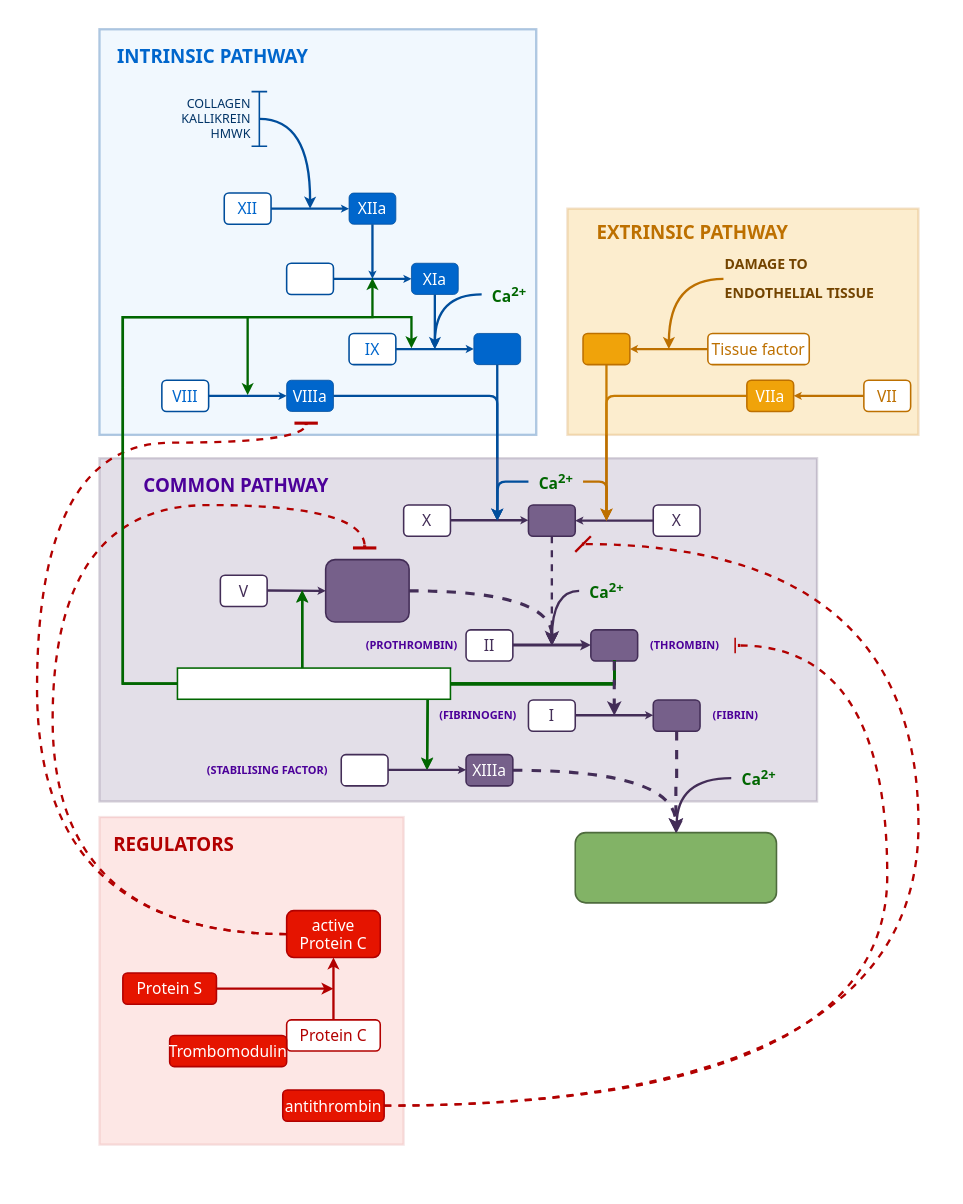
Image size: 963x1204. Some labels were removed from this diagram. The box of each missing label's shape, as (x1, y1, x2, y2) in pixels:
CROSS LINKED FIBRIN CLOT: (574, 831, 777, 903)
Ia: (652, 699, 700, 732)
IIa: (590, 629, 638, 661)
IXa: (473, 333, 521, 365)
Positive feedback through thrombin: (176, 667, 451, 700)
TFa: (582, 332, 630, 365)
Va: (324, 558, 410, 622)
Xa: (527, 504, 576, 537)
XI: (285, 262, 334, 295)
XIII: (340, 753, 388, 786)
